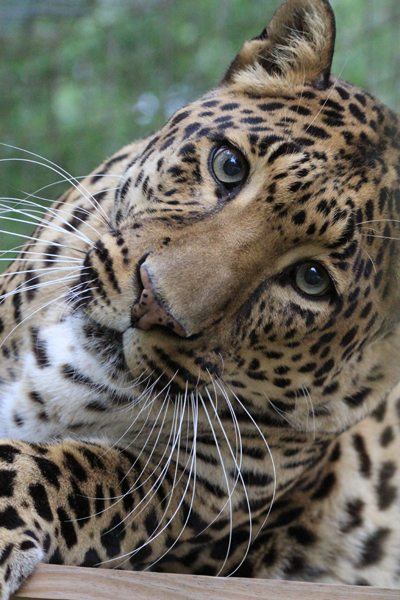leopard: (6, 4, 400, 590)
